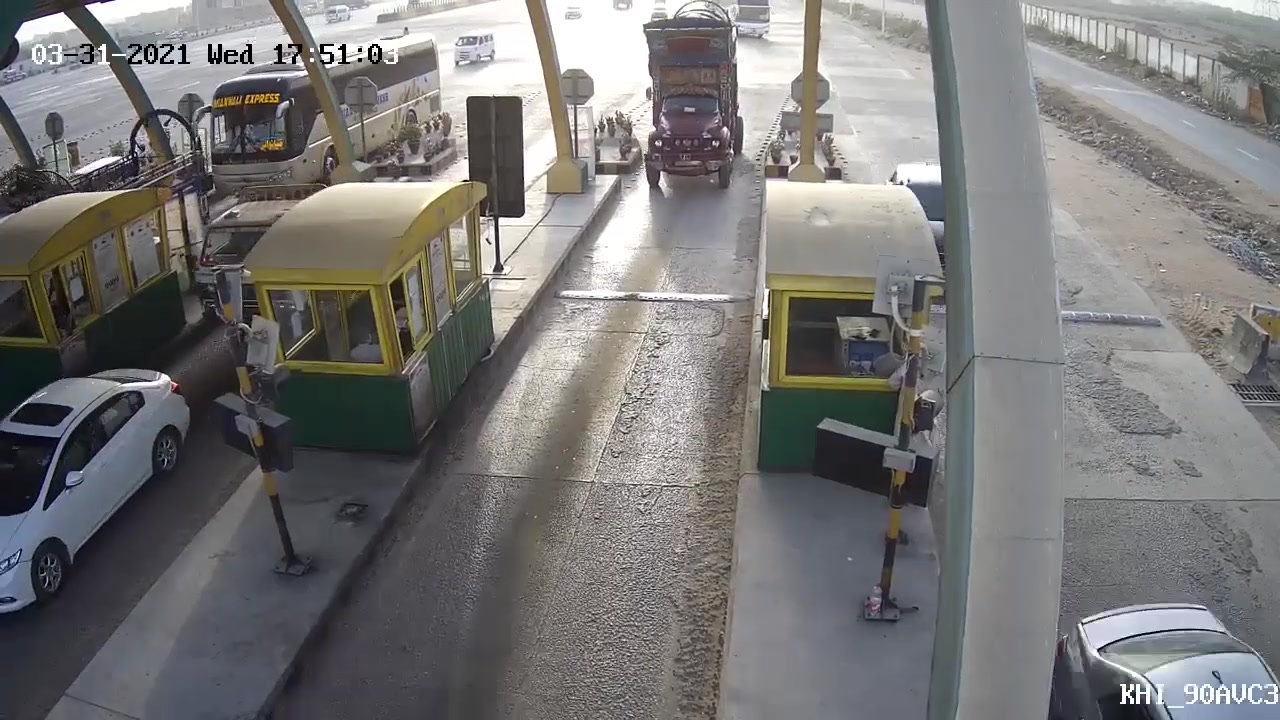F5: (616, 1, 750, 191)
